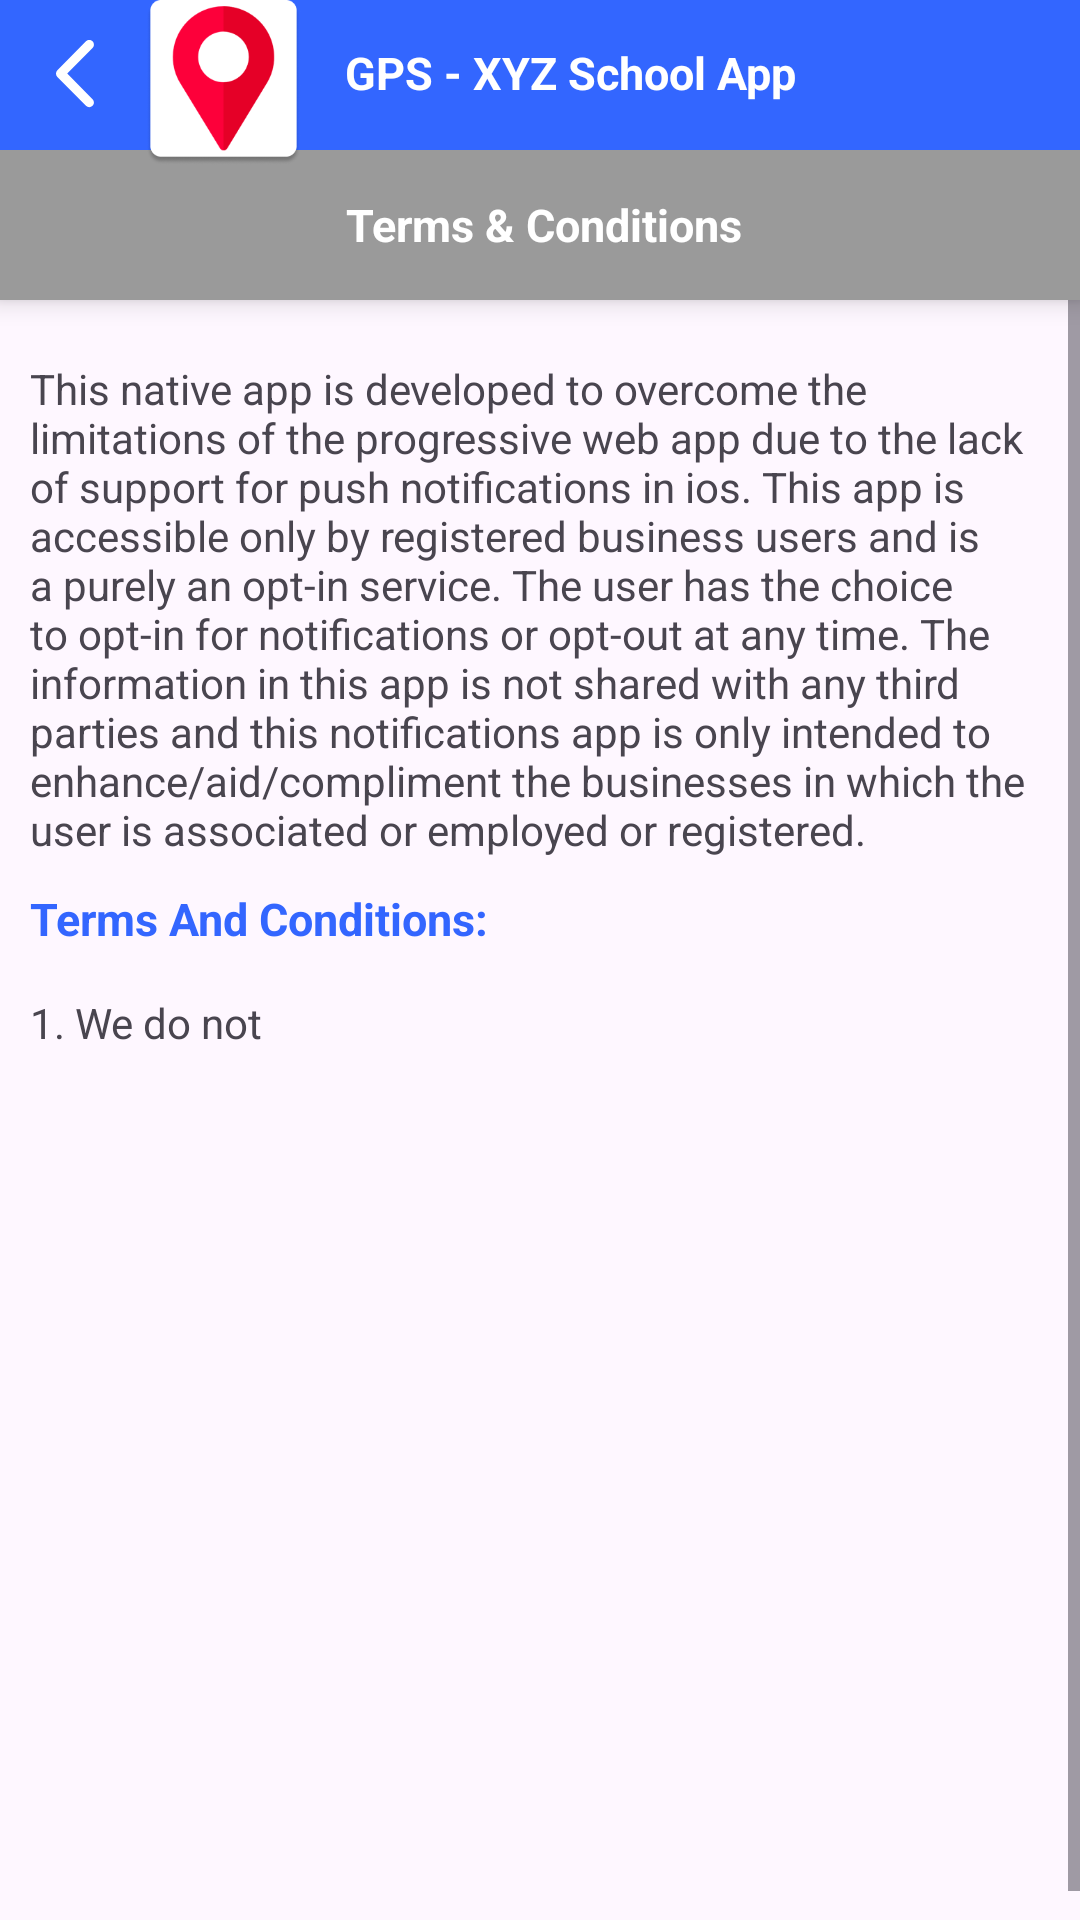

Icons on this 1080w x 1920h Android screen, each with its box as Rect(x1, y1, x2, y2):
left arrow: Rect(56, 40, 94, 108)
